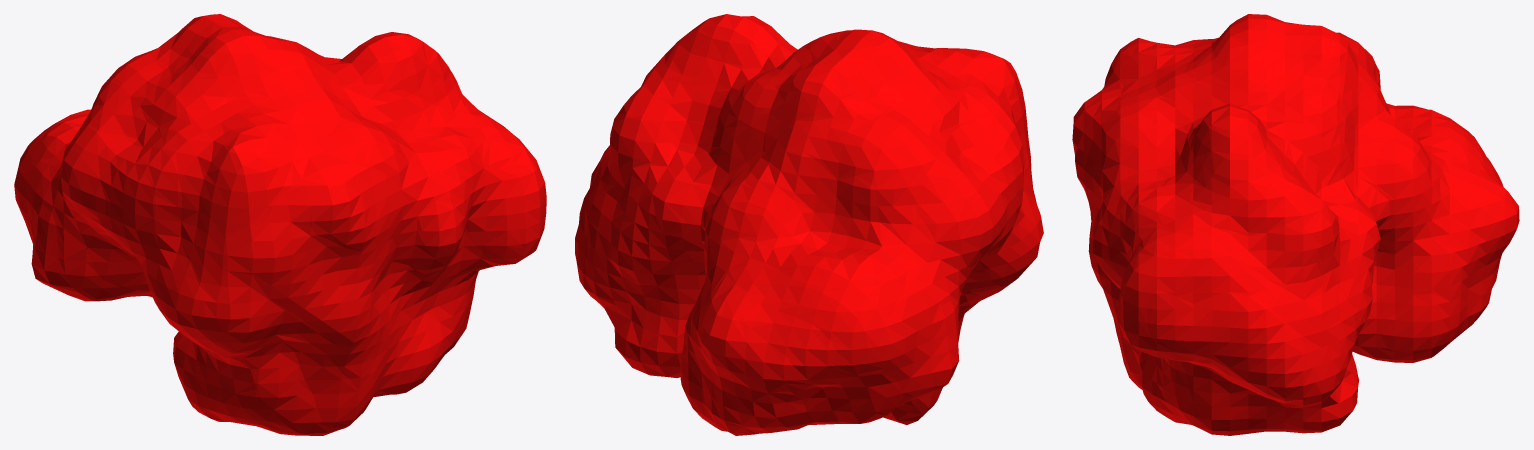
File: pgm_coarse.dae
The picture shows the model from 3 angles, left to right: view 1: azimuth 30°, elevation 25°; view 2: azimuth 150°, elevation 25°; view 3: azimuth 270°, elevation 25°; orthographic projection. The views are drawn at different scales.
Visible parts, largest first — view 1: pgm; view 2: pgm; view 3: pgm.
Part boxes in pixels (x1,y1,x2,y2): pgm: (14, 14, 546, 435); pgm: (575, 14, 1043, 435); pgm: (1072, 14, 1519, 435).
Size of the model in its own units: 66.98 by 59.09 by 66.12.
